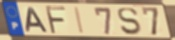7: (140, 6, 161, 37), (93, 6, 114, 36)
A: (26, 6, 50, 33)
F: (44, 5, 68, 35)
I: (74, 6, 86, 35)
S: (116, 7, 142, 36)
